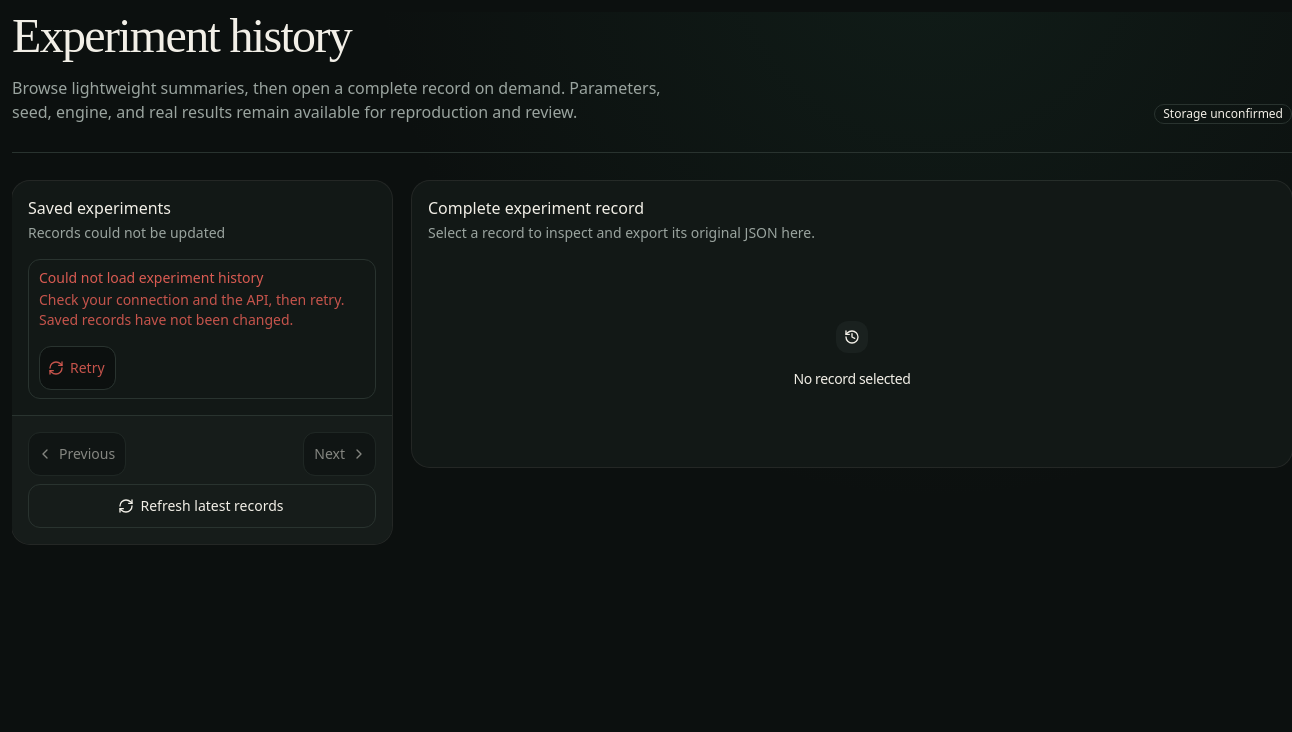
experiment ledger › keeps failed history distinct from empty history and provides retry
The width and height of the screenshot is (1292, 732).
Expected: the text "Could not load experiment history" is shown, [39,268,264,287]
Expected: the text "No experiments on this page" is not shown
Click the button "Retry": click(77, 368) [39,346,116,390]
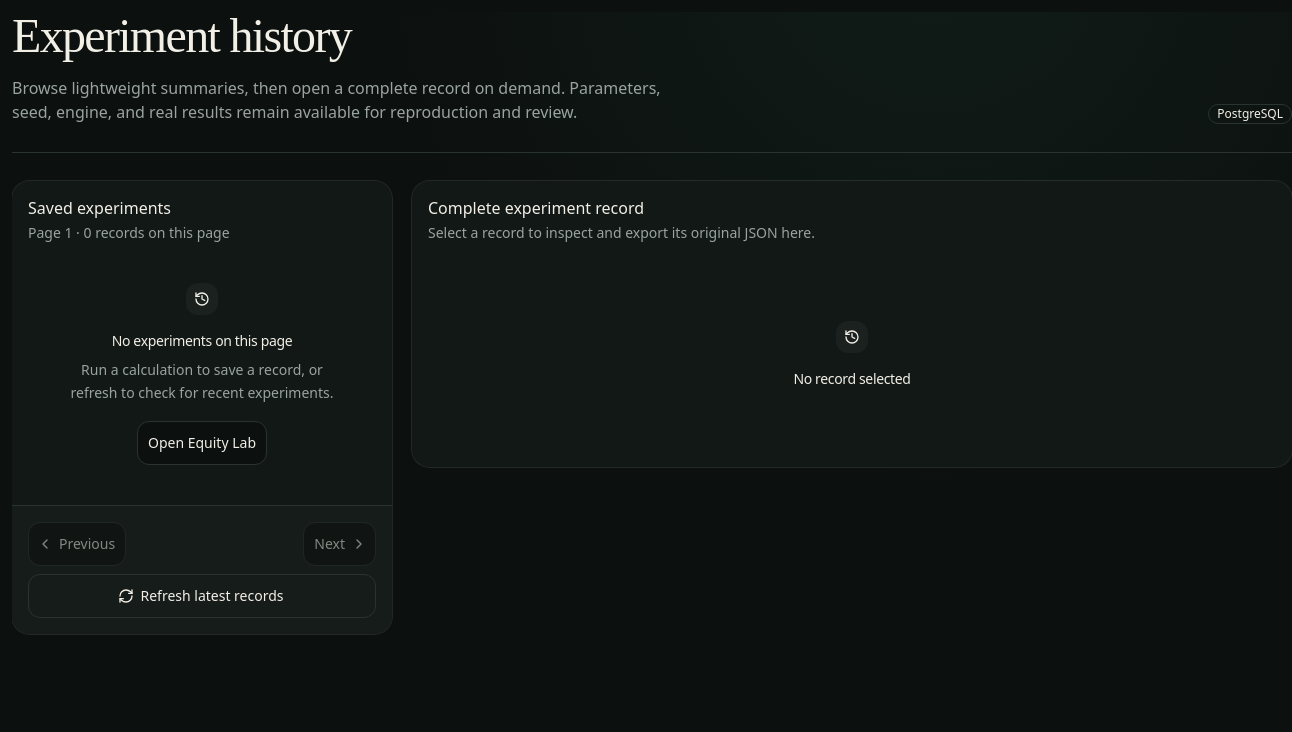
Expected: the text "No experiments on this page" is shown, [112,331,292,351]
